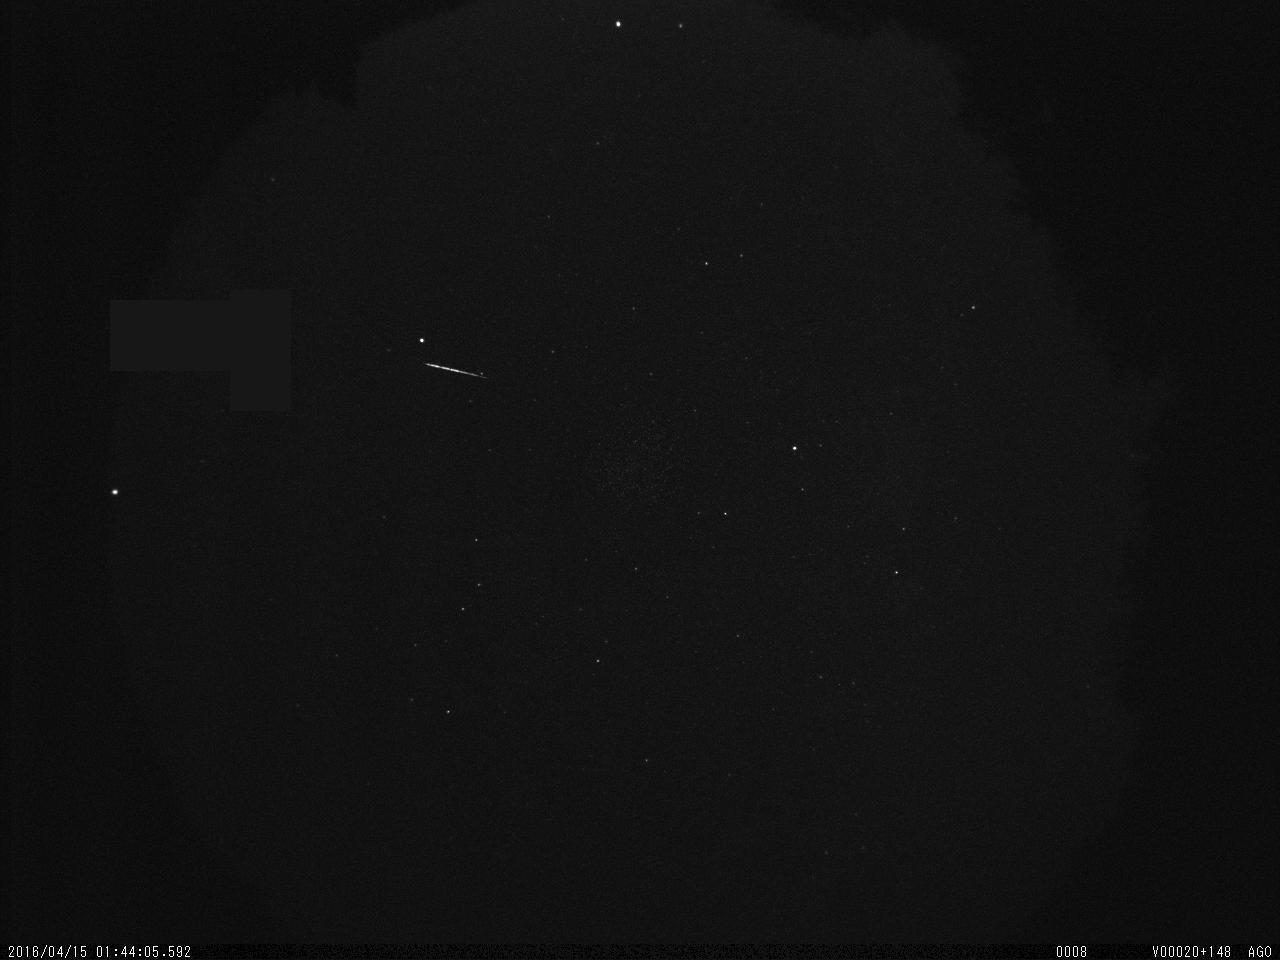meteor: (416, 357, 487, 386)
